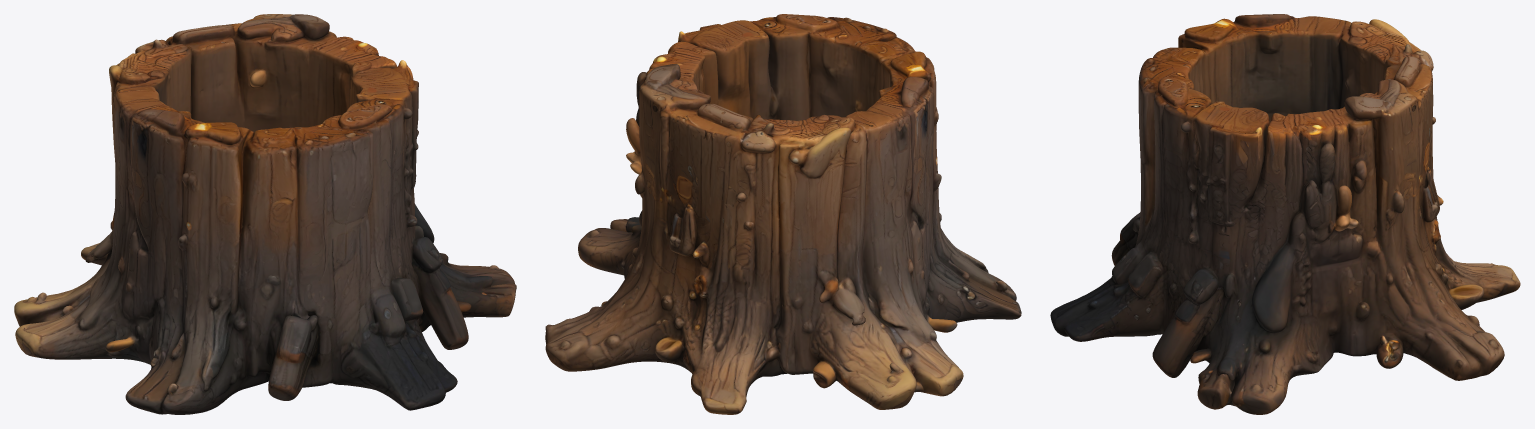
File: nature-stump-hollow.glb
The picture shows the model from 3 angles, left to right: view 1: azimuth 30°, elevation 25°; view 2: azimuth 150°, elevation 25°; view 3: azimuth 270°, elevation 25°; orthographic projection. The views are drawn at different scales.
Parts seen in each view (by area): view 1: tripo_node_1f19e345-104a-4fb2-9dd7-a00356f0e709; view 2: tripo_node_1f19e345-104a-4fb2-9dd7-a00356f0e709; view 3: tripo_node_1f19e345-104a-4fb2-9dd7-a00356f0e709.
Part boxes in pixels (left/top/right/bottom): tripo_node_1f19e345-104a-4fb2-9dd7-a00356f0e709: left=14, top=14, right=516, bottom=414; tripo_node_1f19e345-104a-4fb2-9dd7-a00356f0e709: left=545, top=14, right=1021, bottom=414; tripo_node_1f19e345-104a-4fb2-9dd7-a00356f0e709: left=1050, top=14, right=1520, bottom=414.
Size of the model in its own units: 1.68 by 1 by 1.66.
Materials: 1 (1 with a texture image).
